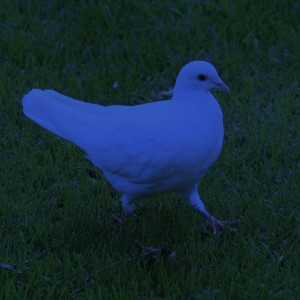pigeon: (19, 57, 244, 236)
